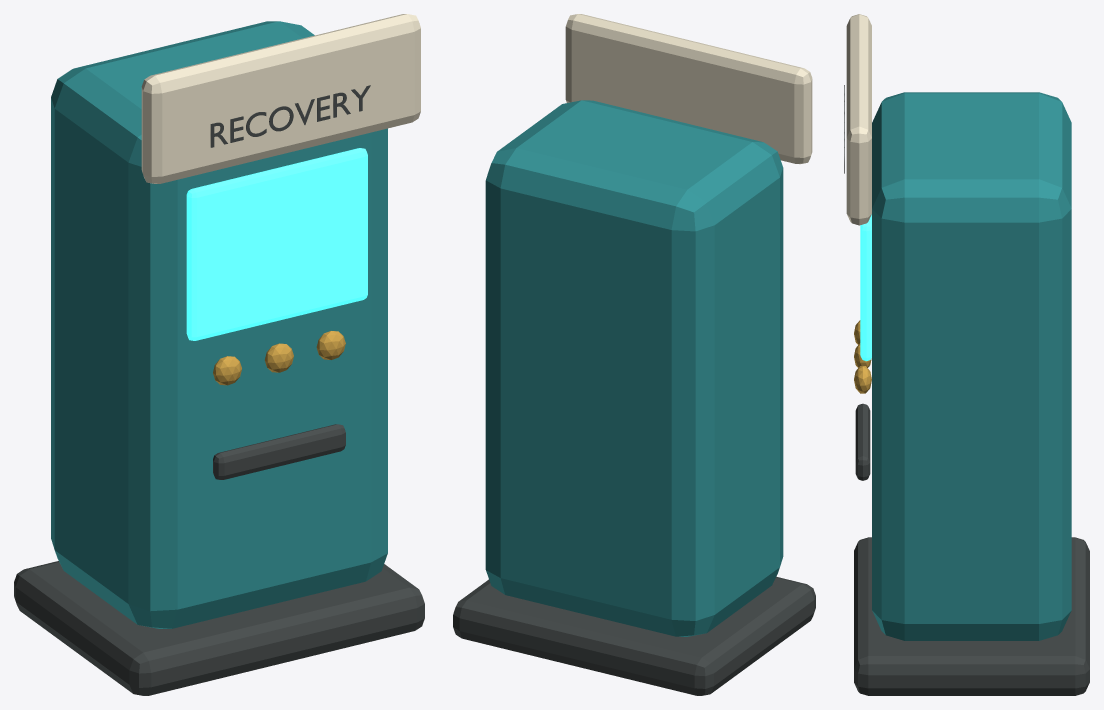
File: recovery-station.glb
3 views of the same model, side by side, from view 1: azimuth 30°, elevation 25°; view 2: azimuth 150°, elevation 25°; view 3: azimuth 270°, elevation 25° (orthographic). The views are drawn at different scales.
Parts seen in each view (by area): view 1: machine_body, sign_board, machine_display, machine_plinth, machine_slot, sign_lettering, machine_button.001, machine_button, machine_button.002; view 2: machine_body, sign_board, machine_plinth; view 3: machine_body, machine_plinth, sign_board, machine_display, machine_slot, machine_button.002.
Part boxes in pixels (<box>): machine_body: <box>51,21,387,628</box>; sign_board: <box>141,14,420,183</box>; machine_display: <box>186,148,367,340</box>; machine_plinth: <box>14,561,424,695</box>; machine_slot: <box>213,424,345,479</box>; sign_lettering: <box>210,85,370,147</box>; machine_button.001: <box>264,343,293,372</box>; machine_button: <box>213,356,241,385</box>; machine_button.002: <box>316,331,345,359</box>; machine_body: <box>485,100,783,636</box>; sign_board: <box>565,14,812,164</box>; machine_plinth: <box>453,576,815,695</box>; machine_body: <box>872,92,1071,640</box>; machine_plinth: <box>854,537,1089,695</box>; sign_board: <box>846,14,871,225</box>; machine_display: <box>860,214,871,361</box>; machine_slot: <box>855,403,870,480</box>; machine_button.002: <box>854,366,871,393</box>.
Size of the model in its own units: 0.85 by 1.72 by 0.677.
